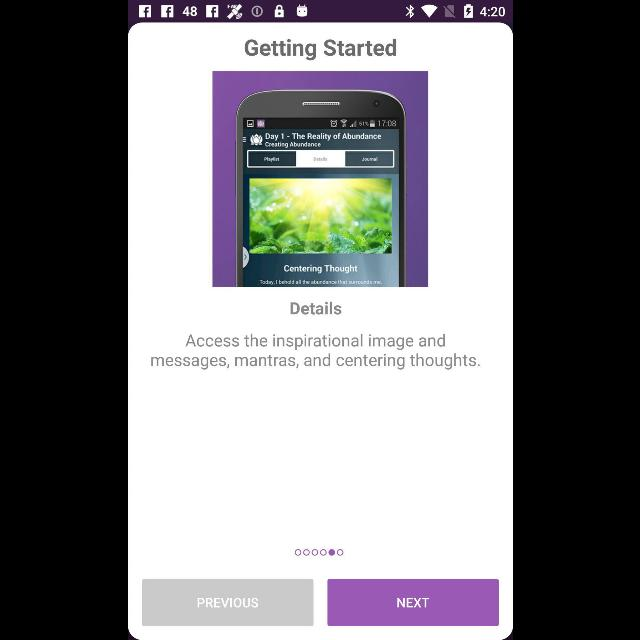image: (212, 71, 428, 287)
pageindicator: (294, 548, 344, 556)
text: (150, 334, 480, 371), (244, 39, 396, 61), (289, 301, 341, 315)
textbutton: (327, 578, 498, 626), (142, 578, 312, 626)
uppertaskbar: (128, 1, 512, 23)
